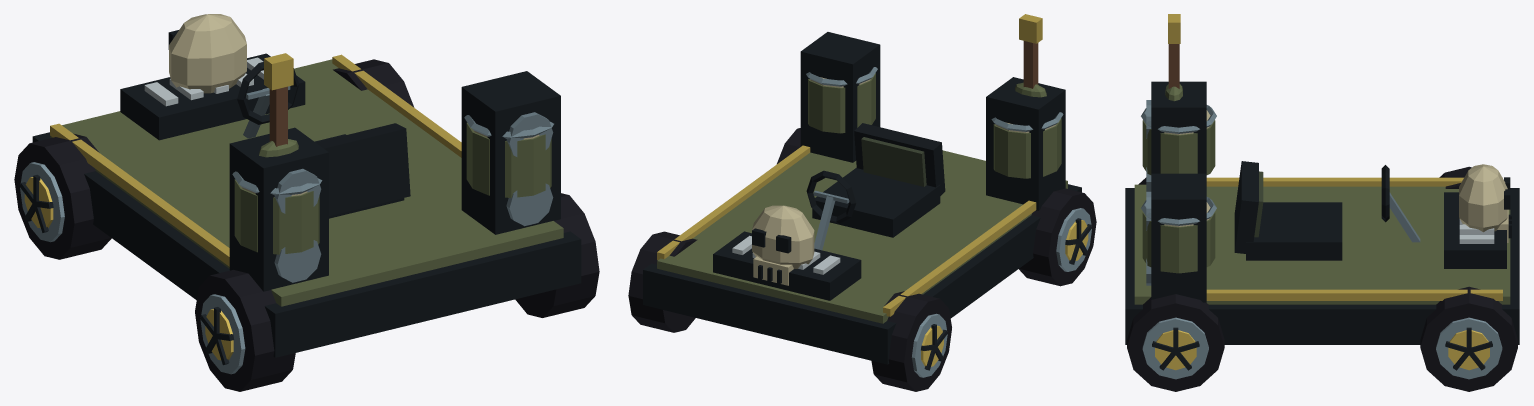
Rendered from kart.glb.
3 renders of one model, left to right at view 1: azimuth 30°, elevation 25°; view 2: azimuth 150°, elevation 25°; view 3: azimuth 270°, elevation 25°, orthographic. The views are drawn at different scales.
Parts seen in each view (by area): view 1: identity-stage-stage-platform-and-pa-towers, identity-stage-motif-drums, wheel-rear-left, wheel-front-left, identity-stage-driver-cockpit, identity-stage-motif-skull, wheel-rear-right, identity-stage-motif-guitar, wheel-front-right; view 2: identity-stage-stage-platform-and-pa-towers, identity-stage-driver-cockpit, identity-stage-motif-drums, wheel-front-left, wheel-rear-left, identity-stage-motif-skull, wheel-front-right, identity-stage-motif-guitar; view 3: identity-stage-stage-platform-and-pa-towers, identity-stage-driver-cockpit, wheel-front-right, wheel-rear-right, identity-stage-motif-drums, identity-stage-motif-skull, identity-stage-motif-guitar.
Boxes of the visible parts, <box> form: identity-stage-stage-platform-and-pa-towers: <box>32,53,581,357</box>; identity-stage-motif-drums: <box>232,115,553,254</box>; wheel-rear-left: <box>195,270,295,391</box>; wheel-front-left: <box>14,133,111,259</box>; identity-stage-driver-cockpit: <box>237,62,410,218</box>; identity-stage-motif-skull: <box>168,14,246,93</box>; wheel-rear-right: <box>515,193,599,317</box>; identity-stage-motif-guitar: <box>259,53,298,157</box>; wheel-front-right: <box>333,59,414,107</box>; identity-stage-stage-platform-and-pa-towers: <box>643,32,1081,364</box>; identity-stage-driver-cockpit: <box>806,123,945,250</box>; identity-stage-motif-drums: <box>806,67,1063,178</box>; wheel-front-left: <box>871,291,951,391</box>; wheel-rear-left: <box>1019,188,1096,286</box>; identity-stage-motif-skull: <box>752,205,814,285</box>; wheel-front-right: <box>628,231,697,332</box>; identity-stage-motif-guitar: <box>1015,14,1046,97</box>; identity-stage-stage-platform-and-pa-towers: <box>1125,81,1519,344</box>; identity-stage-driver-cockpit: <box>1234,161,1420,260</box>; wheel-front-right: <box>1420,286,1517,391</box>; wheel-rear-right: <box>1127,294,1224,391</box>; identity-stage-motif-drums: <box>1141,105,1216,273</box>; identity-stage-motif-skull: <box>1459,164,1511,242</box>; identity-stage-motif-guitar: <box>1165,14,1182,101</box>.
Size of the model in its own units: 2.16 by 1.8 by 2.5.
